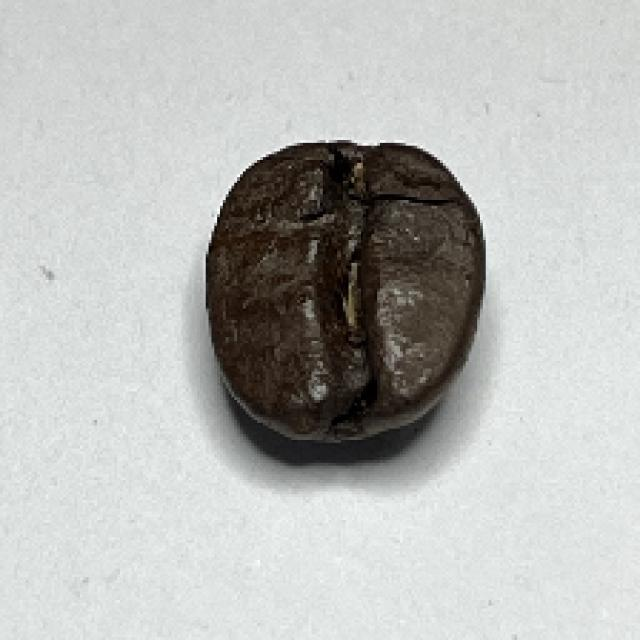bean: (202, 136, 492, 444)
